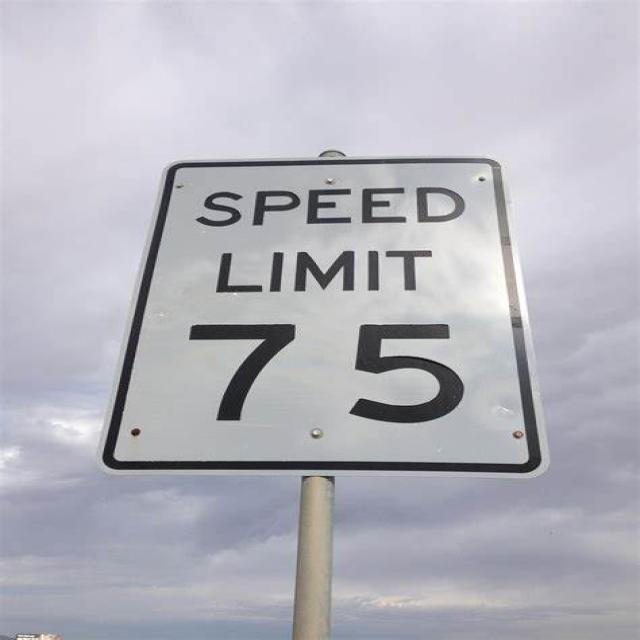speedLimit75: (95, 152, 550, 478)
